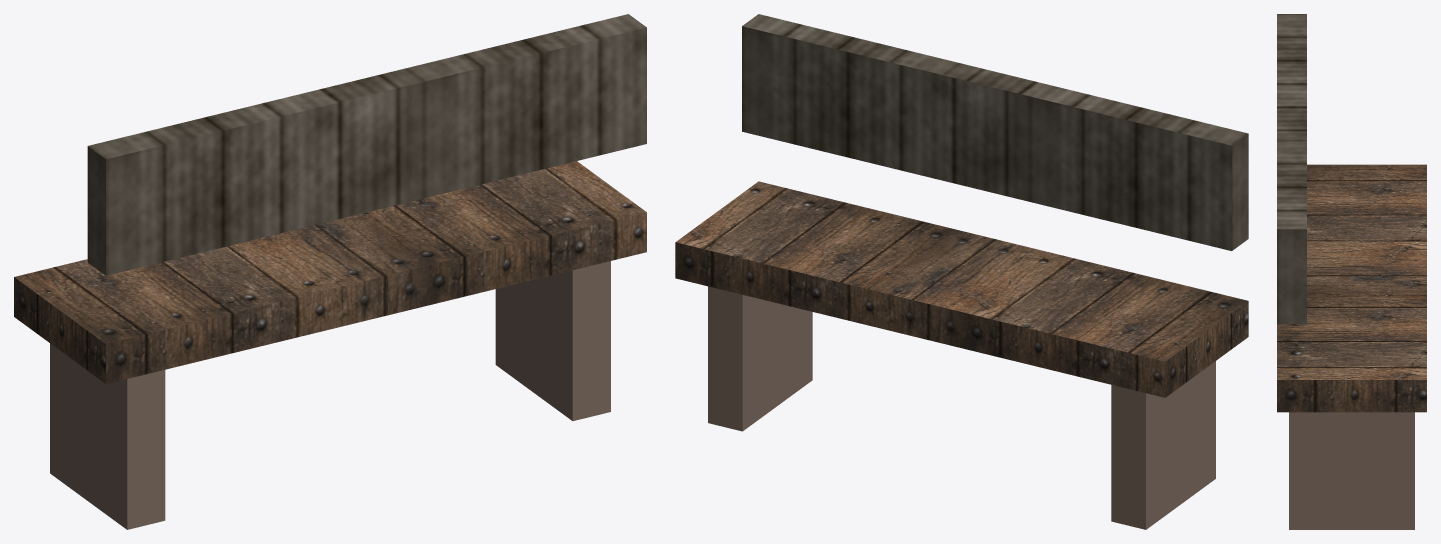
The model's file is turm_holzbank.glb.
3 renders of one model, left to right at view 1: azimuth 30°, elevation 25°; view 2: azimuth 150°, elevation 25°; view 3: azimuth 270°, elevation 25°, orthographic. The views are drawn at different scales.
Visible parts, largest first — view 1: turm_holzbank_003, turm_holzbank_000, turm_holzbank_001, turm_holzbank_002; view 2: turm_holzbank_003, turm_holzbank_000, turm_holzbank_001, turm_holzbank_002; view 3: turm_holzbank_000, turm_holzbank_002, turm_holzbank_003.
Part boxes in pixels (<box>): turm_holzbank_003: <box>87,14,646,275</box>; turm_holzbank_000: <box>14,161,646,383</box>; turm_holzbank_001: <box>50,343,165,529</box>; turm_holzbank_002: <box>495,261,610,420</box>; turm_holzbank_003: <box>742,14,1248,250</box>; turm_holzbank_000: <box>675,181,1248,397</box>; turm_holzbank_001: <box>1111,361,1215,529</box>; turm_holzbank_002: <box>708,286,812,431</box>; turm_holzbank_000: <box>1277,164,1426,412</box>; turm_holzbank_002: <box>1289,412,1414,529</box>; turm_holzbank_003: <box>1277,14,1306,324</box>.
Size of the model in its own units: 1.7 by 1.15 by 0.5.
Materials: 2 (2 with a texture image).
